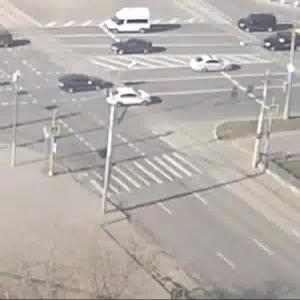car: (96, 1, 153, 39), (254, 28, 300, 57), (189, 49, 232, 79), (56, 71, 107, 95), (101, 88, 151, 111), (110, 41, 160, 64), (241, 13, 282, 36)
